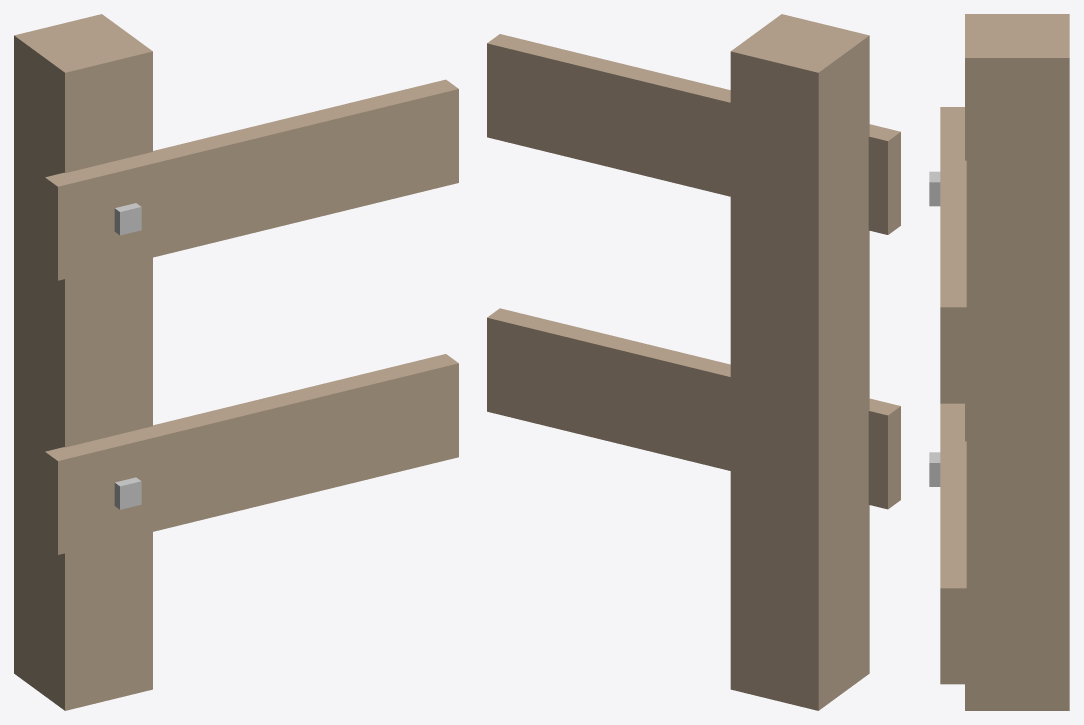
File: fence.fbx
The picture shows the model from 3 angles, left to right: view 1: azimuth 30°, elevation 25°; view 2: azimuth 150°, elevation 25°; view 3: azimuth 270°, elevation 25°; orthographic projection. The views are drawn at different scales.
Parts seen in each view (by area): view 1: Null_26; view 2: Null_26; view 3: Null_26.
Part boxes in pixels (box(x1,y1,x2,y2)): Null_26: box(14, 14, 458, 710); Null_26: box(487, 14, 900, 710); Null_26: box(929, 14, 1069, 710).
Size of the model in its own units: 411 by 625 by 122.
